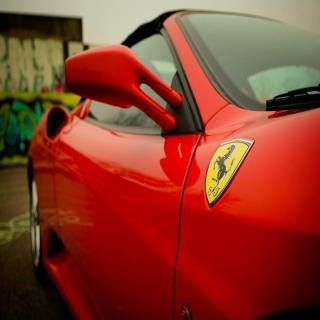Normal_vehicle: (28, 7, 320, 320)
